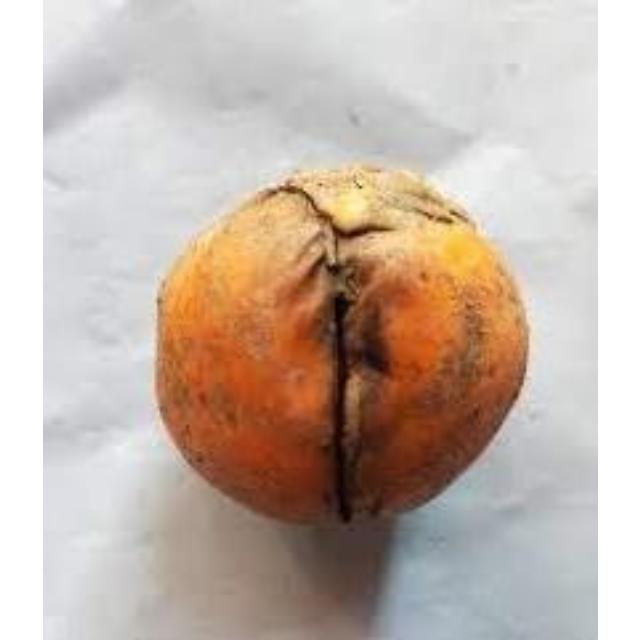damaged: (151, 165, 531, 528)
